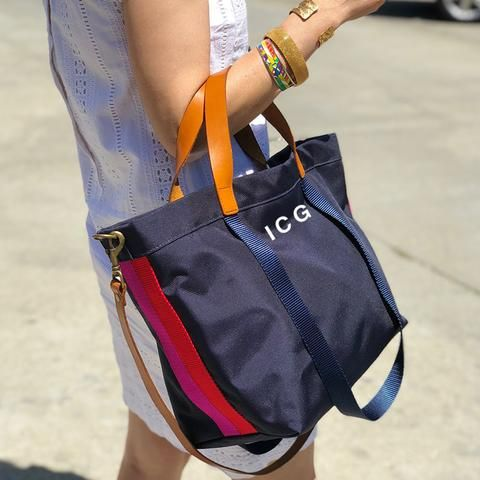nylon: (95, 133, 408, 449)
